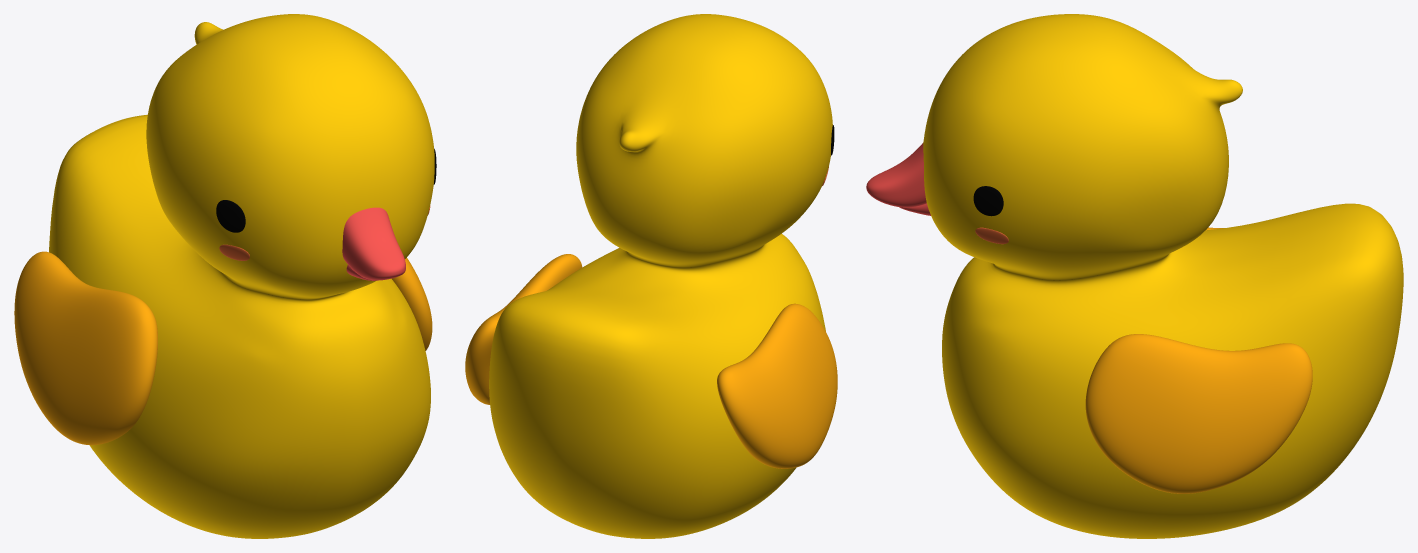
File: RubberDuck_2.2.glb
3 views of the same model, side by side, from view 1: azimuth 30°, elevation 25°; view 2: azimuth 150°, elevation 25°; view 3: azimuth 270°, elevation 25° (orthographic). The views are drawn at different scales.
Visible parts, largest first — view 1: Duck; view 2: Duck; view 3: Duck.
Boxes of the visible parts, left/top/right/bottom form: Duck: left=14, top=14, right=436, bottom=538; Duck: left=465, top=14, right=837, bottom=538; Duck: left=866, top=14, right=1403, bottom=538.
Size of the model in its own units: 3.87 by 5.41 by 5.35.
